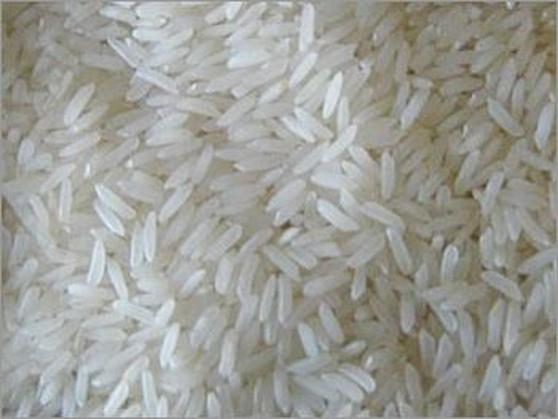rice: (66, 45, 421, 284)
